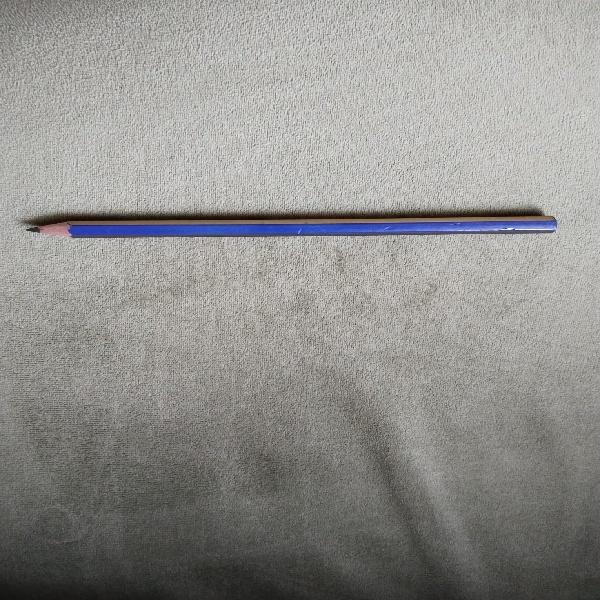pencil: (22, 216, 570, 240)
